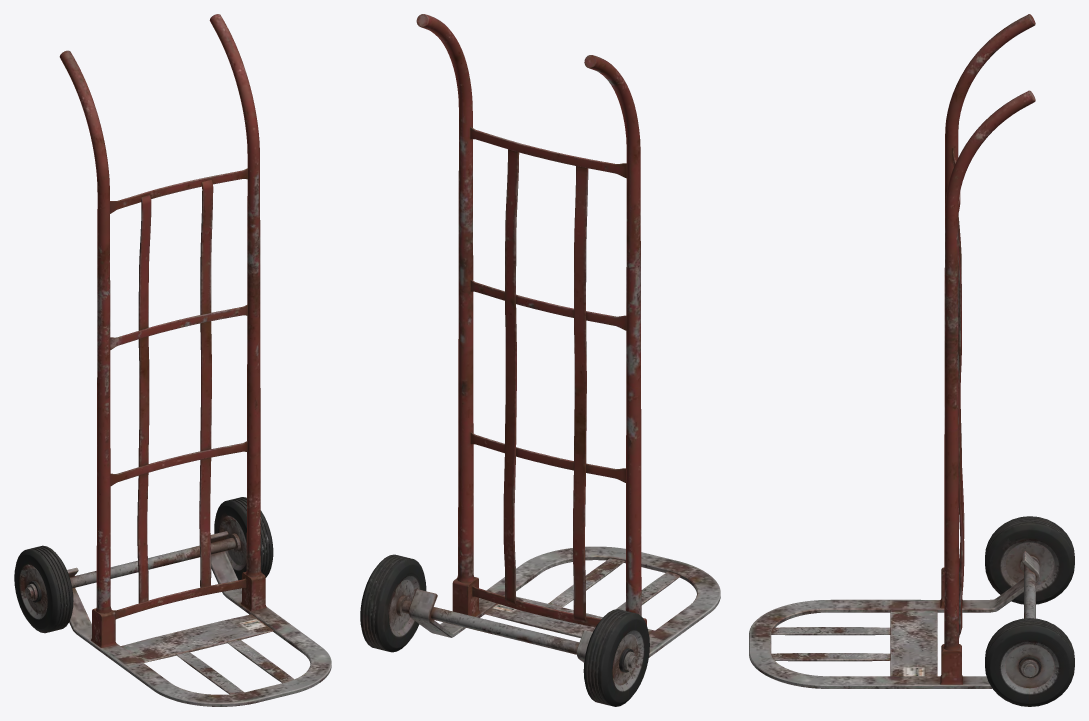
Rendered from hand_truck.glb.
3 renders of one model, left to right at view 1: azimuth 30°, elevation 25°; view 2: azimuth 150°, elevation 25°; view 3: azimuth 270°, elevation 25°, orthographic. The views are drawn at different scales.
Visible parts, largest first — view 1: hand_truck; view 2: hand_truck; view 3: hand_truck.
Boxes of the visible parts, x1,y1,x2,y2 form: hand_truck: (14, 14, 331, 706); hand_truck: (360, 14, 720, 706); hand_truck: (749, 14, 1074, 706).
Size of the model in its own units: 0.5933 by 1.4 by 0.6925.
1 material, 1 textured.
